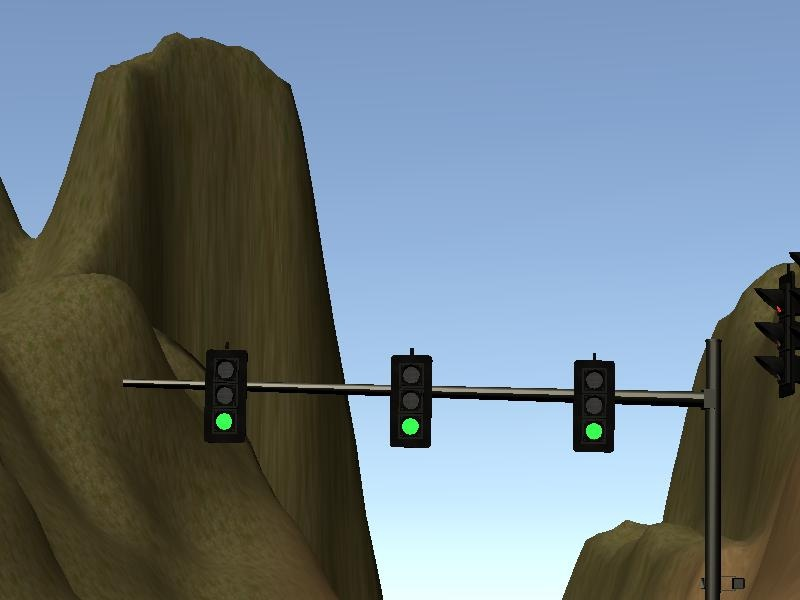green: (386, 352, 436, 450), (572, 356, 618, 456), (203, 350, 250, 446)
